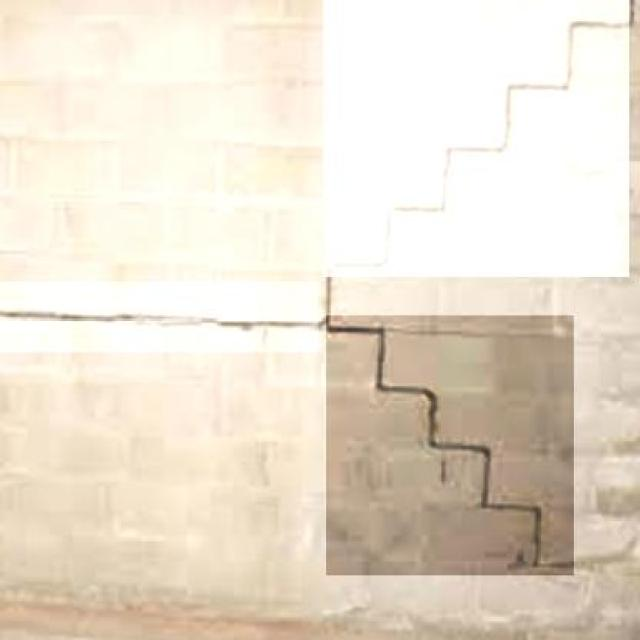Crack: (305, 1, 640, 254), (317, 275, 579, 572), (2, 299, 312, 343)
